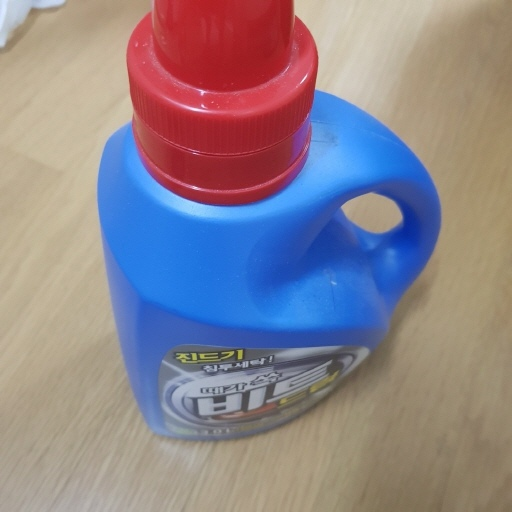Plastic_1: (101, 1, 441, 436)
